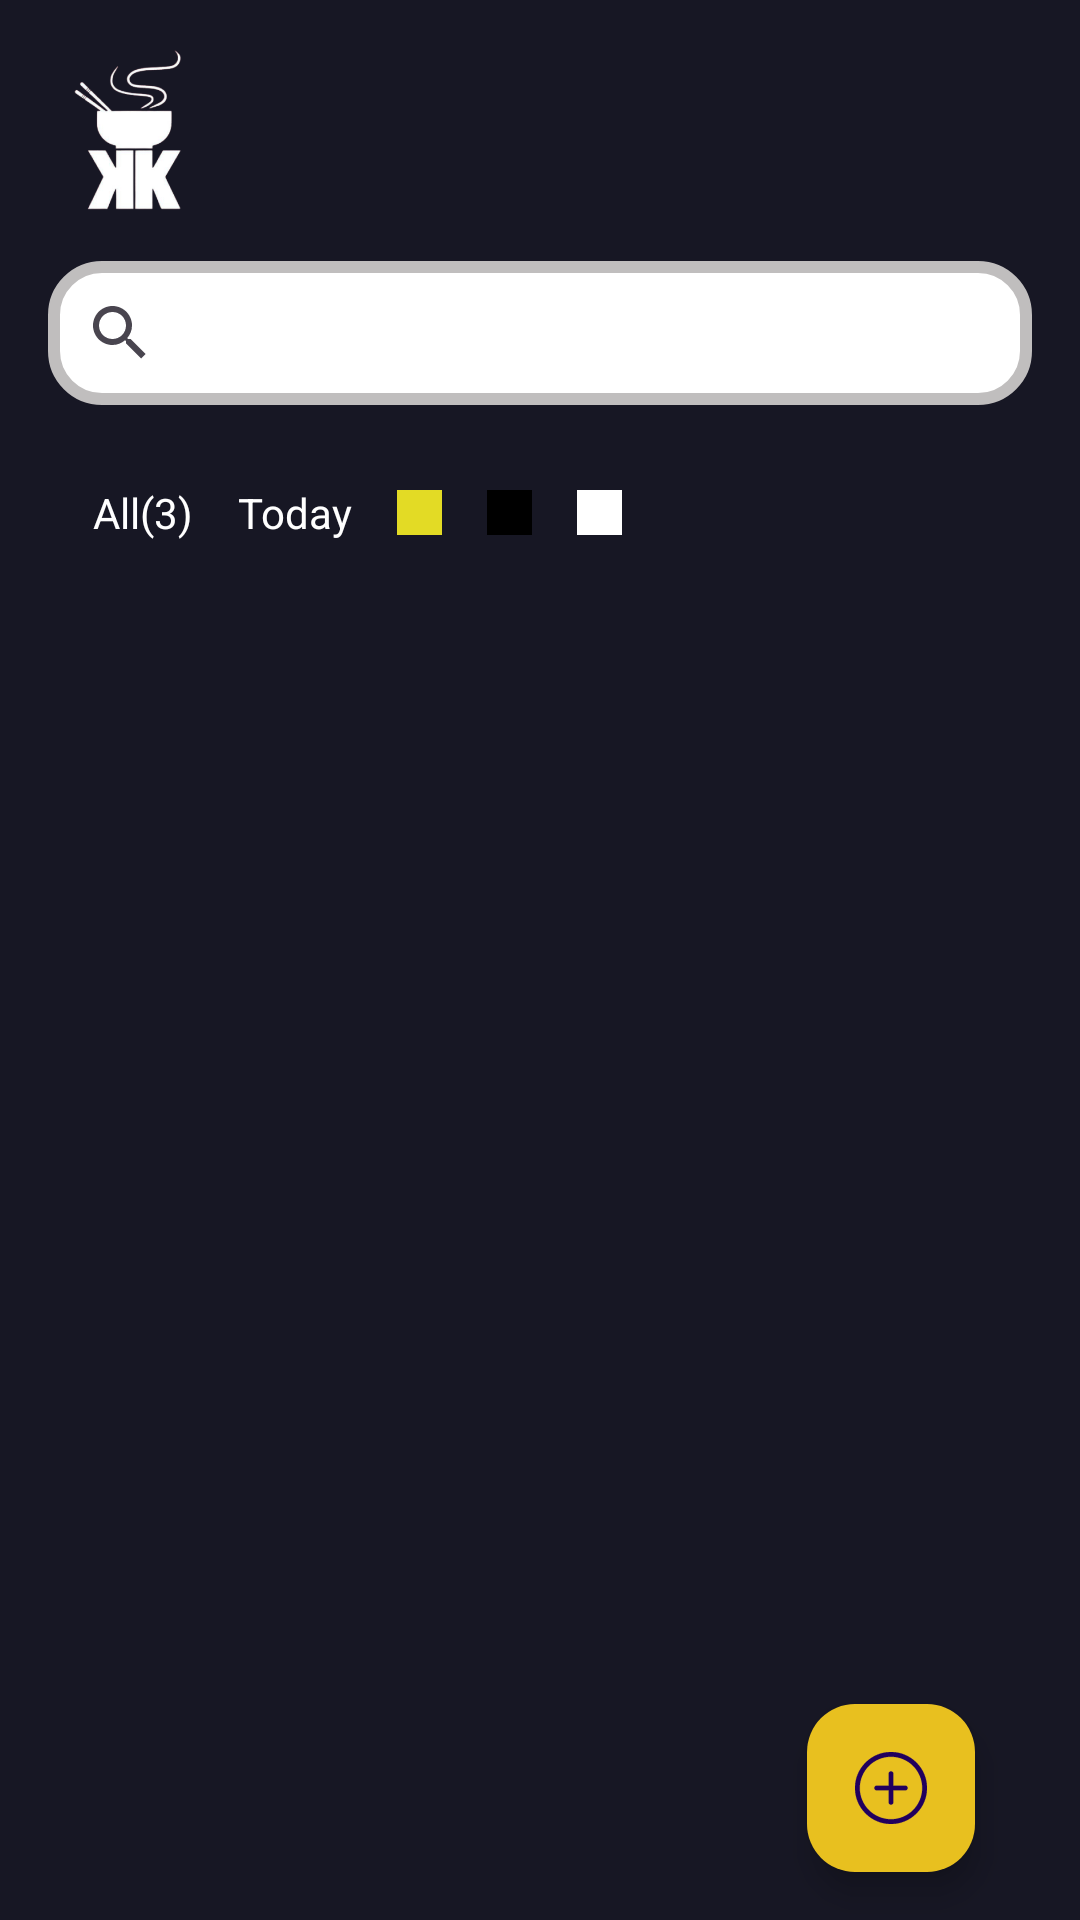

Where icons sit on this 1080*1920 app screen, as (x1, y1, x2, y2):
add: (807, 1704, 975, 1872)
